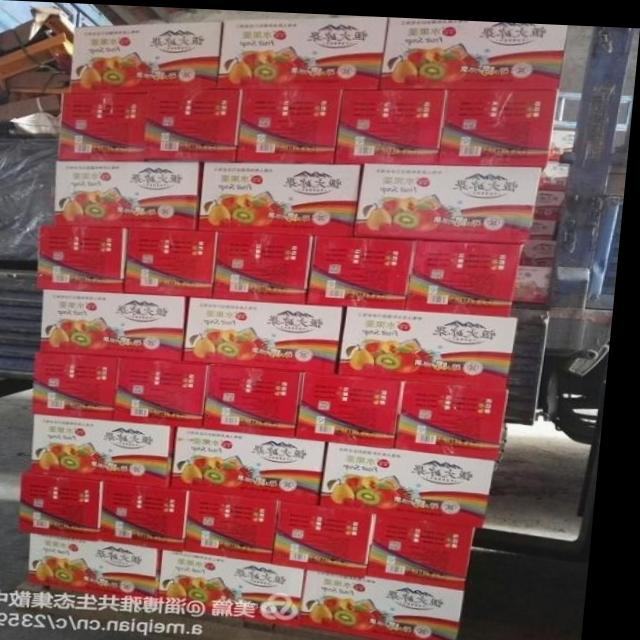box: (329, 438, 505, 522), (358, 161, 546, 238), (343, 304, 523, 381), (380, 14, 568, 84), (308, 564, 477, 640), (188, 294, 350, 370), (218, 15, 388, 86), (202, 160, 364, 234), (181, 424, 335, 501), (171, 547, 317, 626), (69, 19, 223, 92), (37, 413, 186, 484), (58, 159, 209, 228), (47, 289, 195, 359), (38, 531, 172, 607), (440, 84, 561, 163), (412, 234, 529, 310), (405, 376, 518, 454), (338, 84, 449, 162), (302, 367, 412, 444), (375, 510, 487, 584), (311, 231, 422, 304), (239, 85, 344, 162), (285, 499, 385, 574), (144, 86, 244, 160), (217, 229, 319, 300), (209, 362, 308, 434), (195, 488, 290, 562), (121, 355, 217, 425), (129, 226, 221, 296), (61, 89, 150, 160), (111, 479, 198, 549), (41, 224, 133, 290), (38, 351, 125, 419), (30, 473, 111, 541), (518, 261, 555, 297), (524, 233, 563, 264), (543, 155, 576, 188), (548, 124, 578, 158), (537, 185, 571, 213), (532, 206, 564, 234)
